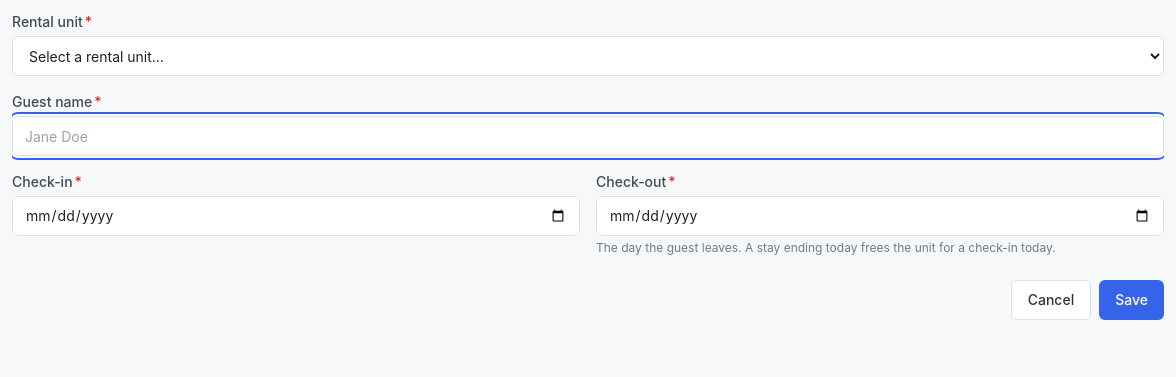
Scenario: ReservationForm — client-side validation › reports the required fields instead of submitting an incomplete booking
What coordinates should you click on to do the following:
click the button "Save"
I would click on:
 (1132, 300)
Its box is [1099,280,1164,320].
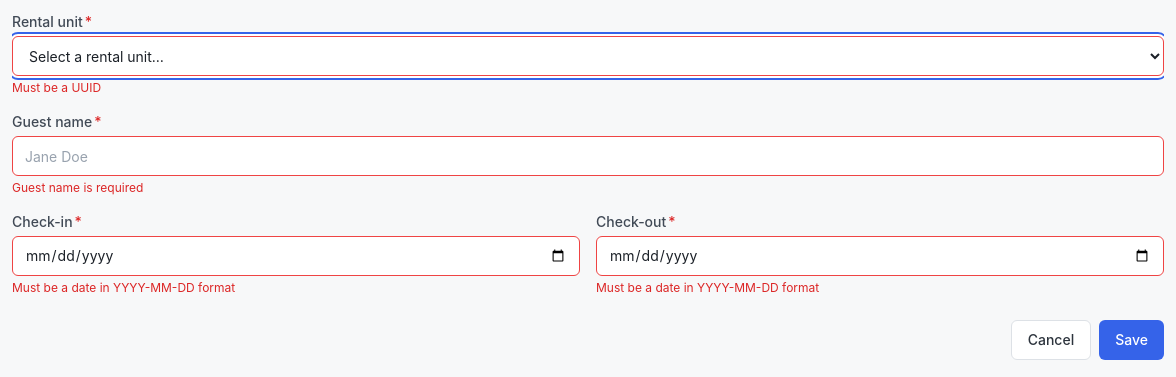
Expected: the text "Guest name is required" is shown, [12,180,143,195]
